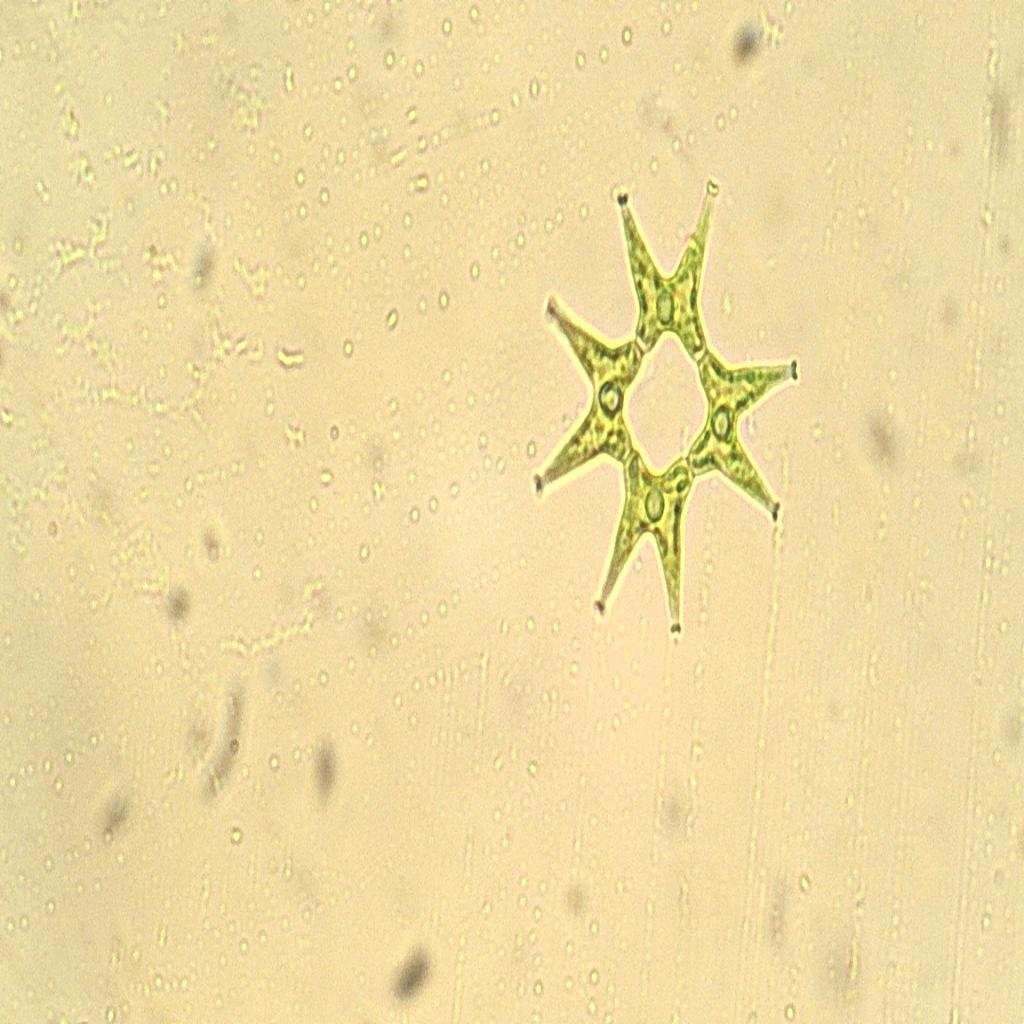Pediastrum_CO: (523, 172, 797, 642)
